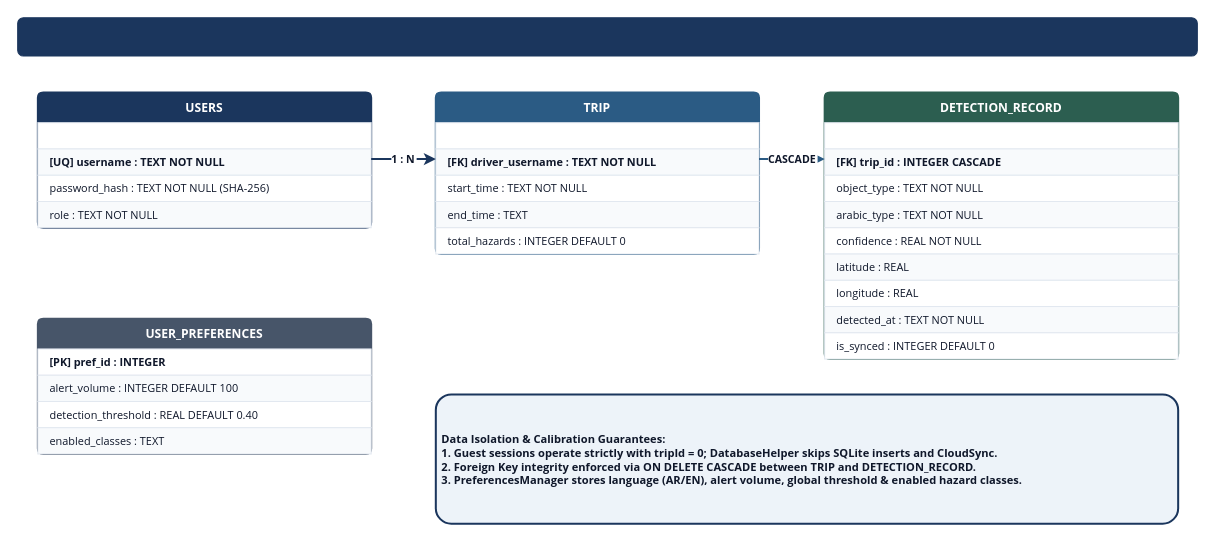
Some shapes in this 1215 by 542 pixel diagram are drawn without their labels. The shapes that lost their labels are listed below. From the top down, each one's centre as x and y in pixels, then its label:
(607,36): Relational Schema for Local Storage (vision_local.db SQLite v4)
(204,135): [PK] user_id : INTEGER AUTOINCREMENT
(597,135): [PK] trip_id : INTEGER AUTOINCREMENT
(1001,135): [PK] record_id : INTEGER AUTOINCREMENT
